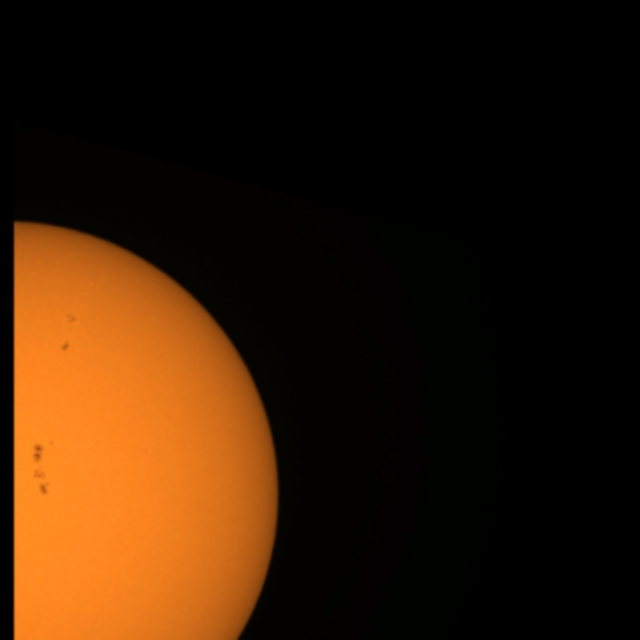sunspot: (30, 439, 56, 469), (30, 467, 54, 498), (65, 312, 78, 326), (59, 340, 71, 353)
